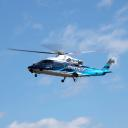helicopter: (8, 46, 117, 84)
